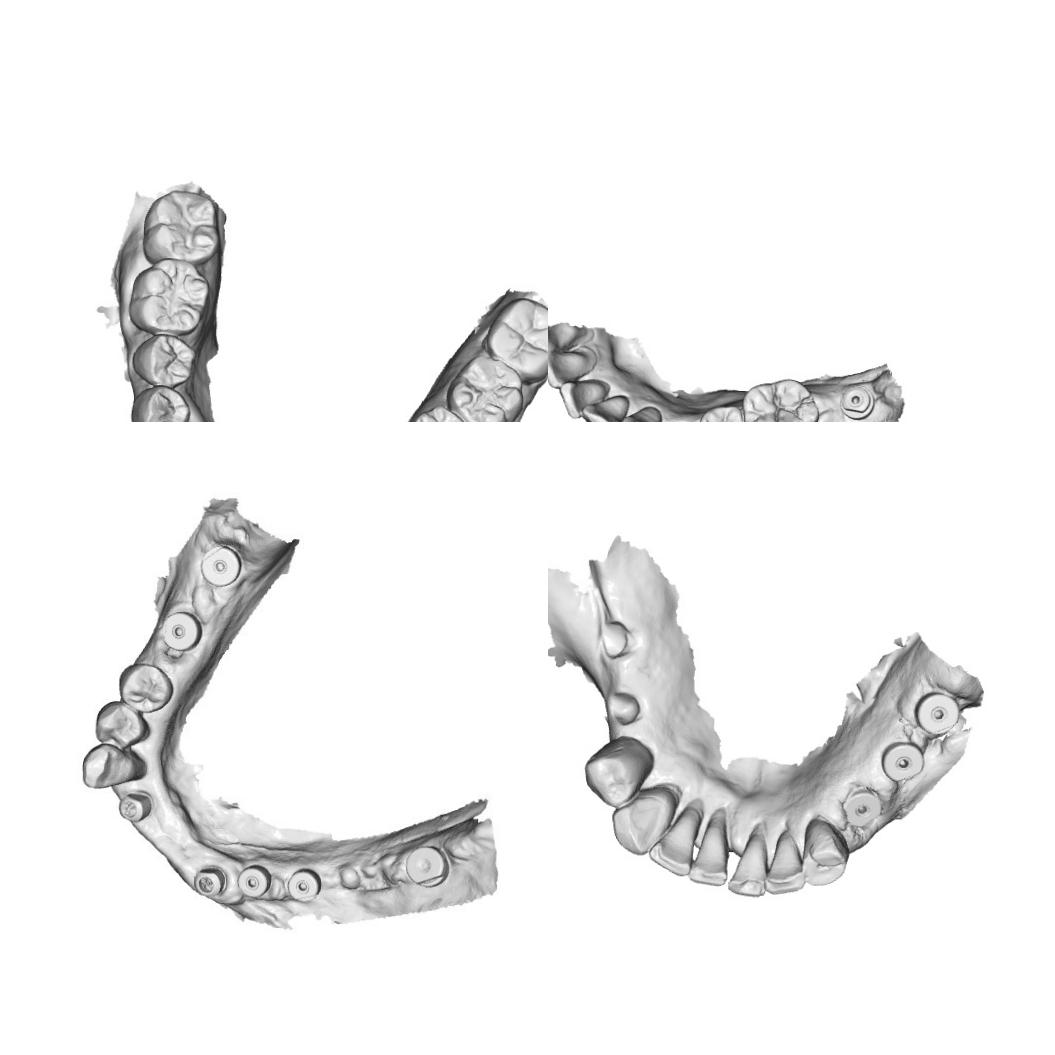canine: (608, 791, 672, 858), (799, 815, 848, 889), (80, 743, 148, 796), (618, 403, 664, 422)
implant: (404, 837, 452, 888), (914, 686, 960, 738), (838, 782, 886, 830), (198, 544, 248, 590), (878, 737, 925, 785), (162, 609, 200, 652), (117, 790, 156, 830), (838, 381, 876, 422), (190, 864, 225, 900), (282, 870, 320, 902), (238, 864, 271, 900)
incisor: (646, 809, 698, 879), (686, 818, 733, 888), (762, 835, 808, 898), (728, 836, 768, 898), (557, 376, 610, 420), (548, 348, 593, 392), (579, 391, 630, 422)
molar: (128, 257, 212, 339), (138, 188, 223, 264), (442, 351, 526, 422), (481, 295, 548, 382), (740, 375, 822, 422)
premolar: (580, 735, 654, 809), (128, 328, 196, 390), (128, 380, 190, 422), (92, 700, 146, 747), (120, 664, 172, 712), (411, 400, 472, 422), (696, 402, 749, 422)
